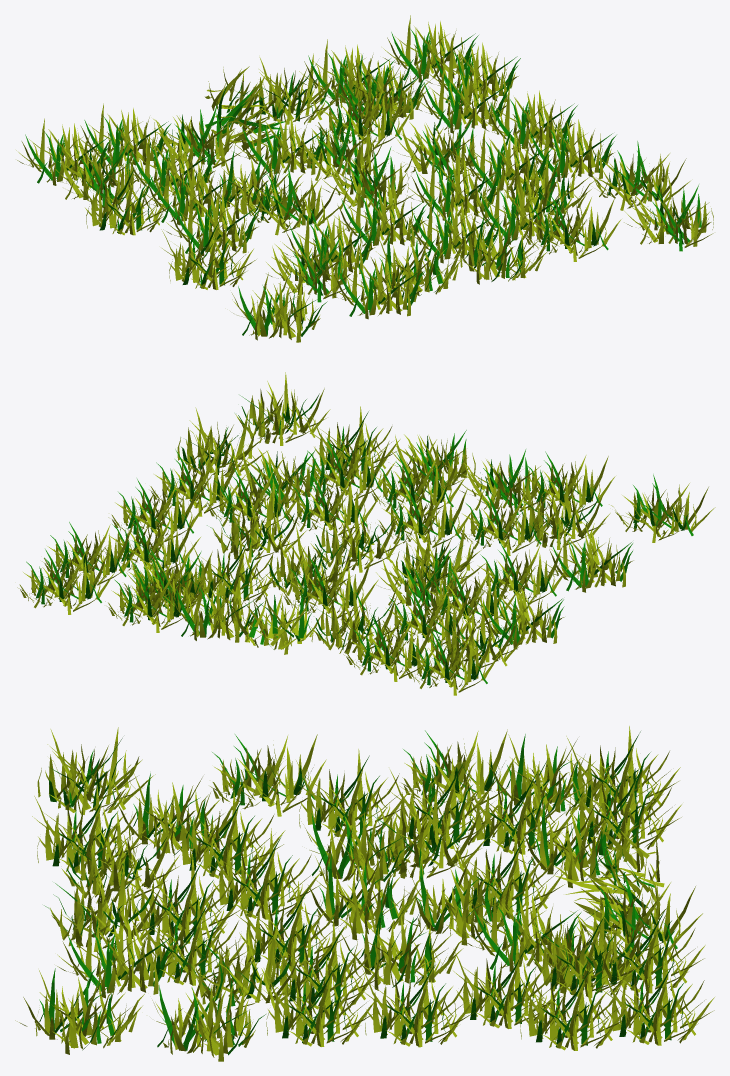
Rendered from Grass_patch_v002.fbx.
3 renders of one model, top to bottom at view 1: azimuth 30°, elevation 25°; view 2: azimuth 150°, elevation 25°; view 3: azimuth 270°, elevation 25°, orthographic. The views are drawn at different scales.
Visible parts, largest first — view 1: Grasspatch; view 2: Grasspatch; view 3: Grasspatch.
Part boxes in pixels (x1=…): Grasspatch: x1=16, y1=15, x2=713, y2=342; Grasspatch: x1=17, y1=372, x2=715, y2=695; Grasspatch: x1=15, y1=726, x2=714, y2=1061.
Bounding box in the file's own units: 1.05 × 0.1639 × 1.06.
